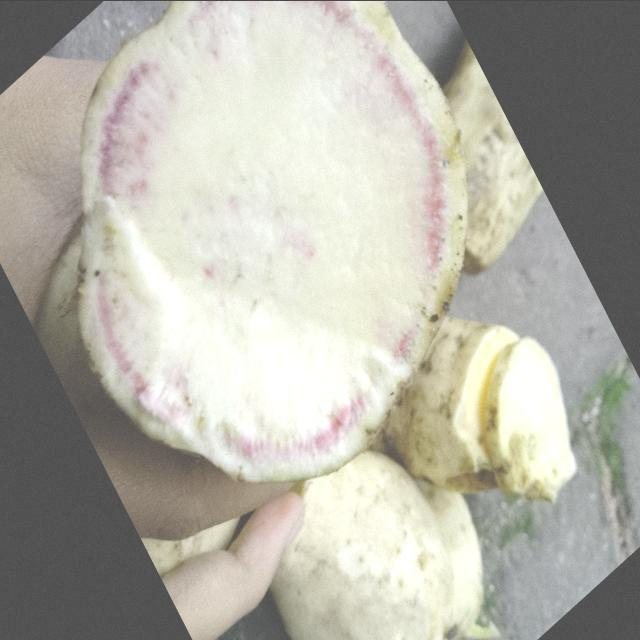Healthy Sweet Potato: (79, 2, 468, 480)
